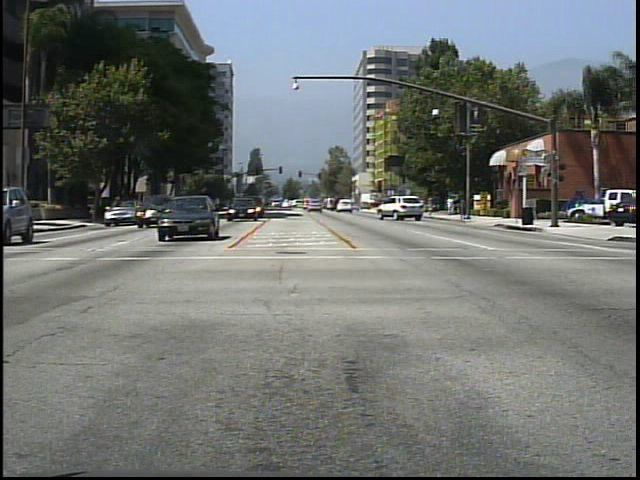person: (446, 194, 457, 215), (426, 193, 435, 217)
